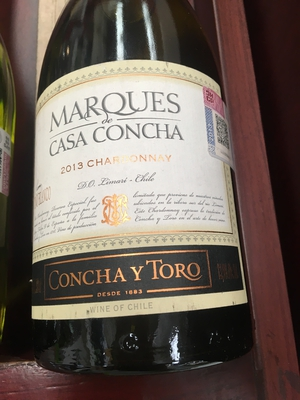marques de casa concha chardonnay: (30, 28, 268, 376)
